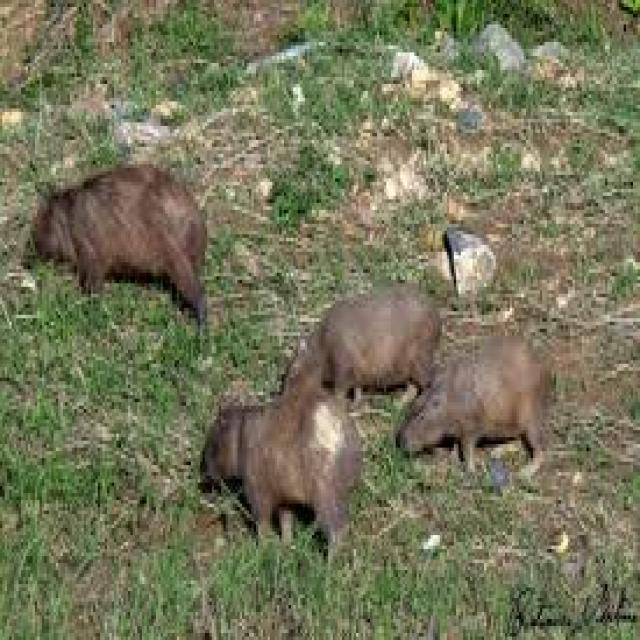capy: (32, 159, 209, 329), (200, 382, 357, 550), (396, 340, 554, 471), (283, 288, 441, 395)
